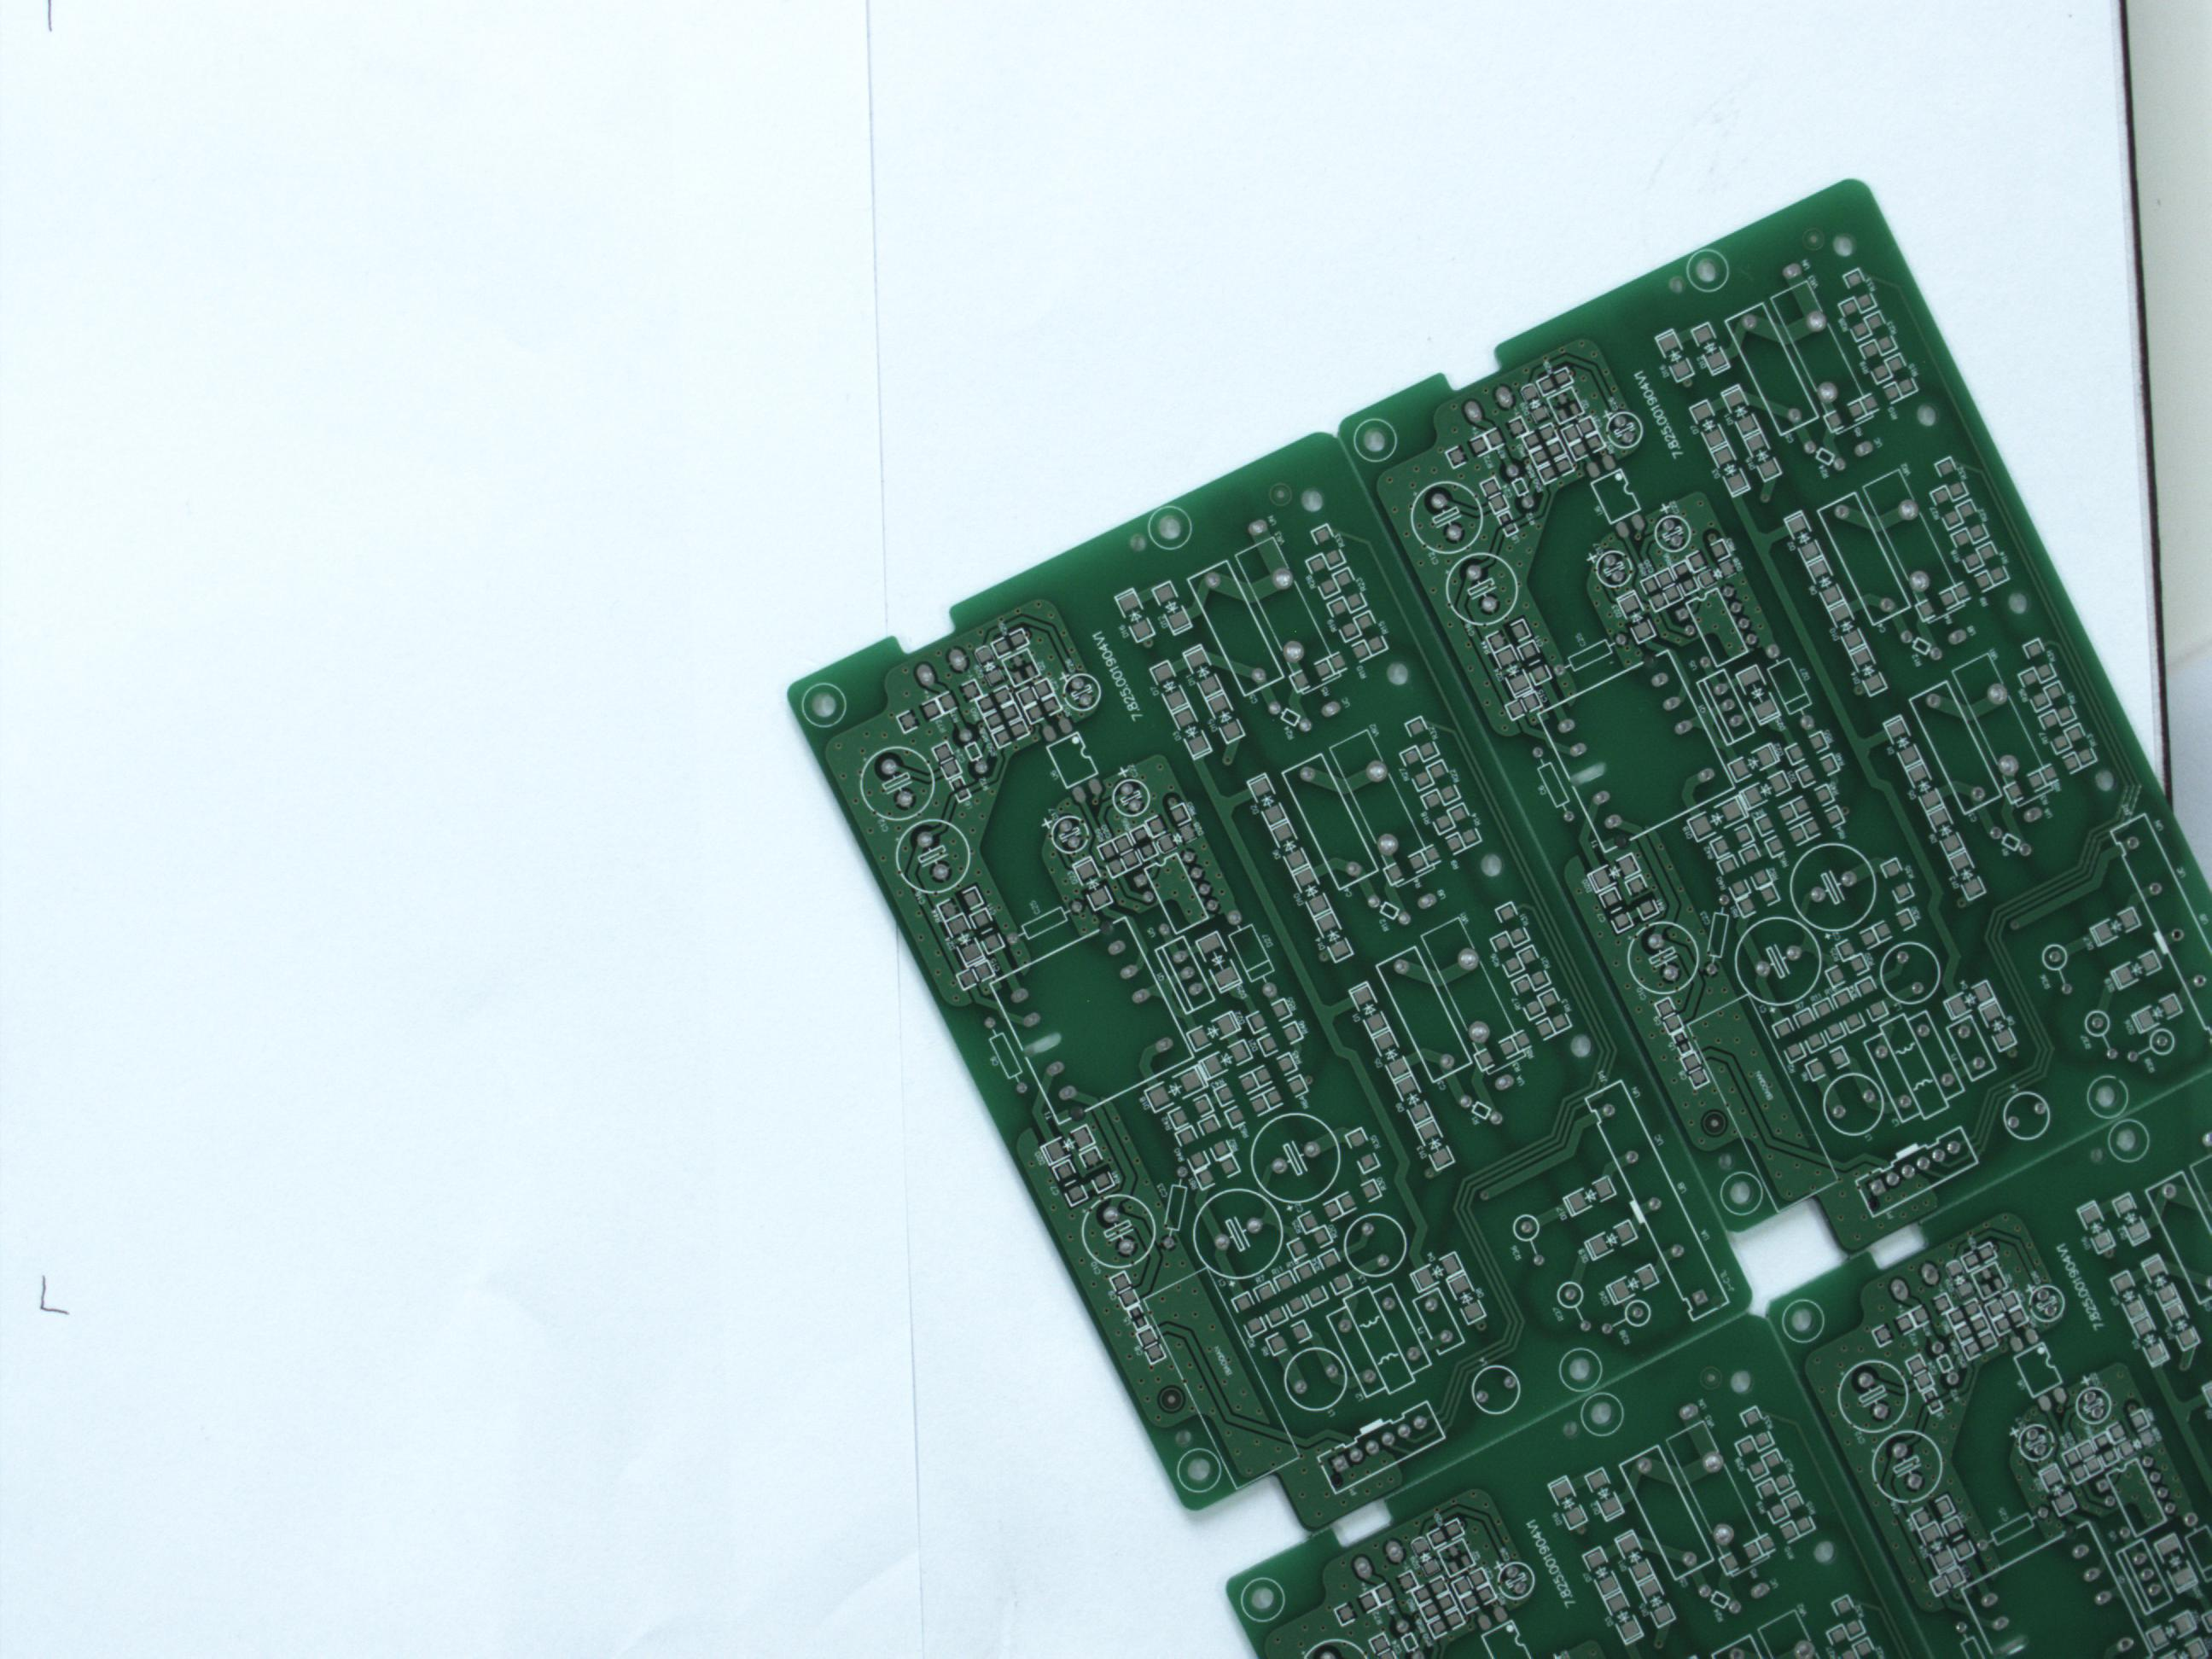ma: (1555, 1344, 1606, 1394), (2104, 1119, 2155, 1168), (1237, 1575, 1287, 1624), (1352, 416, 1400, 465), (1176, 1446, 1224, 1495), (2085, 1073, 2132, 1122), (1580, 1391, 1627, 1439), (799, 683, 850, 728), (1148, 505, 1195, 552), (1780, 1298, 1827, 1345), (1686, 249, 1733, 295), (1717, 1171, 1764, 1215)
